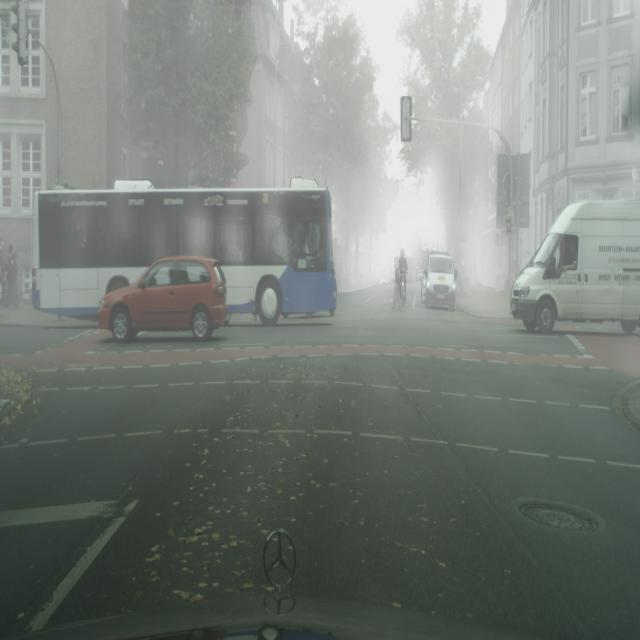bicycle: (31, 178, 337, 325)
person: (5, 241, 20, 309), (398, 250, 407, 305), (393, 258, 402, 309)
train: (510, 198, 640, 337)
truck: (98, 255, 229, 343), (422, 252, 456, 311)
